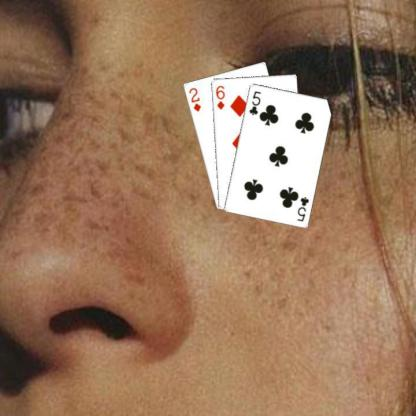2D: (186, 85, 202, 113)
5C: (295, 194, 310, 223), (247, 88, 262, 116)
6D: (214, 83, 225, 110)
